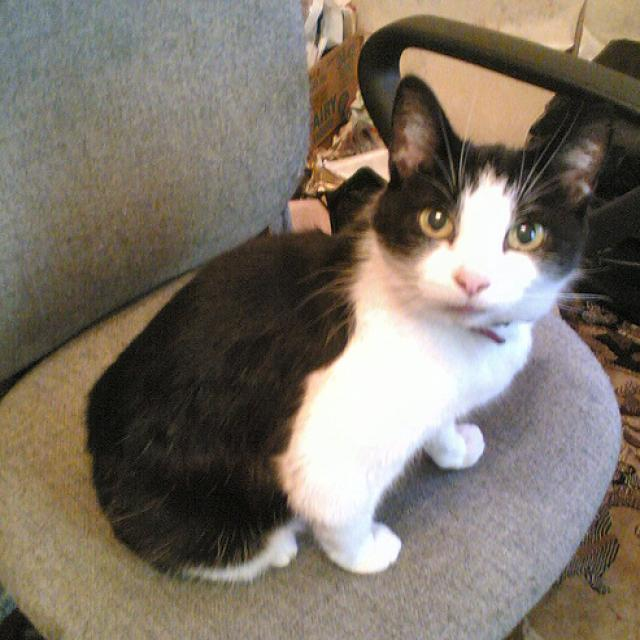cat: (84, 73, 614, 586)
